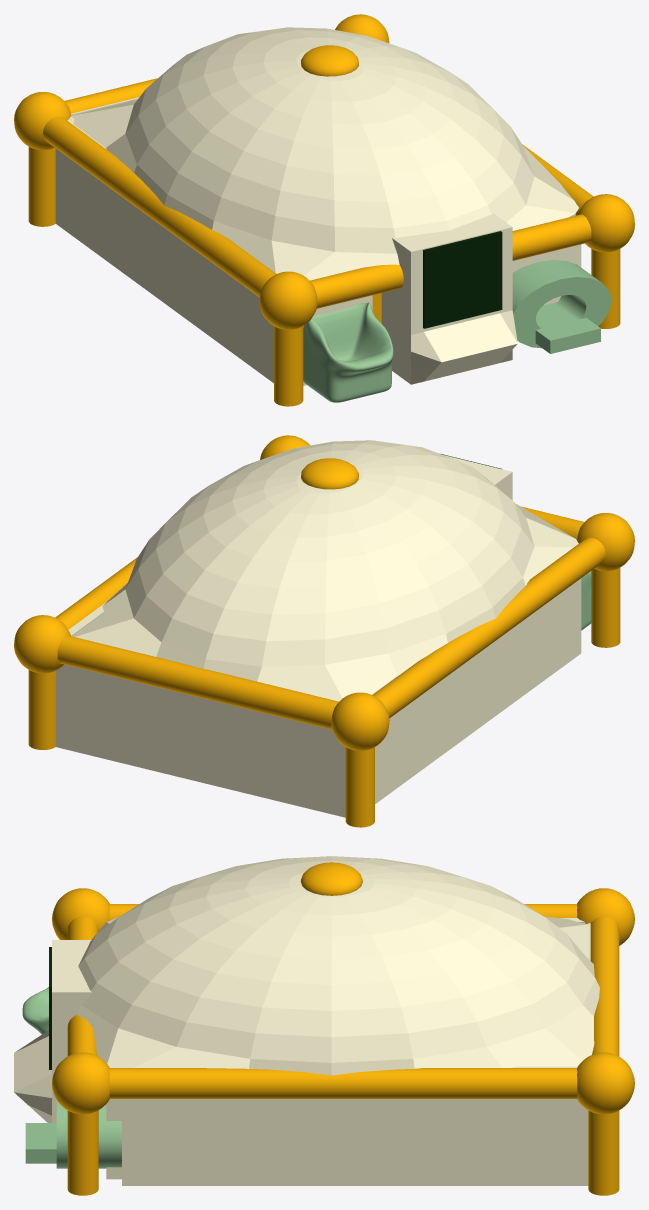
File: estação-reciclagem.fbx
3 renders of one model, top to bottom at view 1: azimuth 30°, elevation 25°; view 2: azimuth 150°, elevation 25°; view 3: azimuth 270°, elevation 25°, orthographic. The views are drawn at different scales.
Visible parts, largest first — view 1: pSphere1, pCube6, pCube4, pCylinder2, pCube8, pCube9, pPipe1, pCylinder6, pCube3, pCube2, pSphere4, pSphere5 (+10 smaller); view 2: pSphere1, pCube4 (×2), pCube2 (×2), pCube3 (×2), pCylinder1, pCylinder2, pSphere3, pSphere2, pCylinder5, pCylinder8, pCylinder4, pSphere4 (+6 smaller); view 3: pSphere1, pCube4, pCylinder3, pCube3, pCube2, pCube6, pCylinder1, pSphere2, pSphere5, pCylinder4, pCylinder7, pPipe1 (+8 smaller).
Part boxes in pixels (box(x1,y1,x2,y2)): pSphere1: box(71, 27, 578, 280); pCube6: box(381, 213, 517, 384); pCube4: box(174, 235, 273, 382); pCylinder2: box(43, 116, 275, 297); pCube8: box(303, 302, 393, 402); pCube9: box(423, 231, 502, 328); pPipe1: box(512, 260, 611, 348); pCylinder6: box(310, 214, 591, 308); pCube3: box(56, 116, 115, 266); pCube2: box(115, 192, 173, 309); pSphere4: box(259, 271, 317, 329); pSphere5: box(578, 194, 634, 252); pSphere1: box(72, 440, 578, 701); pCube4 (×2): box(252, 578, 581, 817); pCube2 (×2): box(151, 653, 478, 794); pCube3 (×2): box(56, 664, 419, 803); pCylinder1: box(57, 635, 338, 729); pCylinder2: box(373, 537, 605, 718); pSphere3: box(331, 692, 389, 750); pSphere2: box(14, 615, 70, 673); pCylinder5: box(345, 747, 374, 827); pCylinder8: box(591, 568, 620, 647); pCylinder4: box(28, 670, 55, 749); pSphere4: box(577, 513, 634, 571); pSphere1: box(76, 856, 599, 1075); pCube4: box(122, 1099, 339, 1185); pCylinder3: box(109, 1068, 577, 1098); pCube3: box(464, 1066, 588, 1185); pCube2: box(339, 1099, 463, 1185); pCube6: box(14, 940, 92, 1122); pCylinder1: box(590, 916, 619, 1056); pSphere2: box(577, 1052, 634, 1114); pSphere5: box(52, 1052, 109, 1114); pCylinder4: box(588, 1110, 619, 1195); pCylinder7: box(67, 1110, 98, 1195); pPipe1: box(56, 1100, 121, 1168).
Size of the model in its own units: 14.5 by 8.52 by 19.97.
